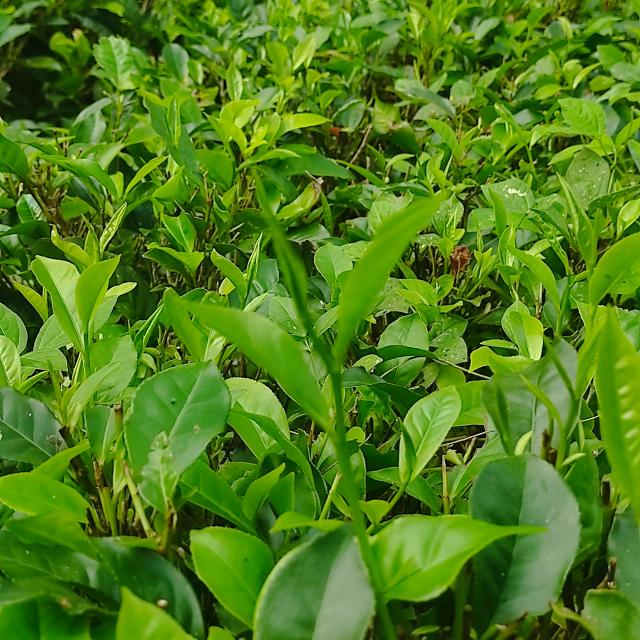unopened_leaf: (242, 157, 342, 383), (534, 328, 581, 406), (518, 371, 568, 444), (391, 413, 421, 482), (242, 225, 266, 293), (585, 202, 609, 265), (471, 220, 488, 258), (160, 110, 177, 141), (497, 242, 511, 266)
